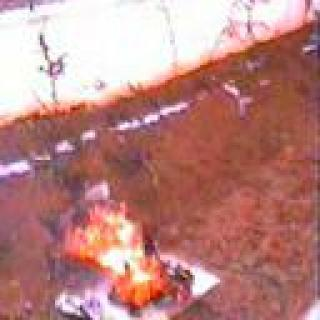fire: (45, 180, 198, 320)
